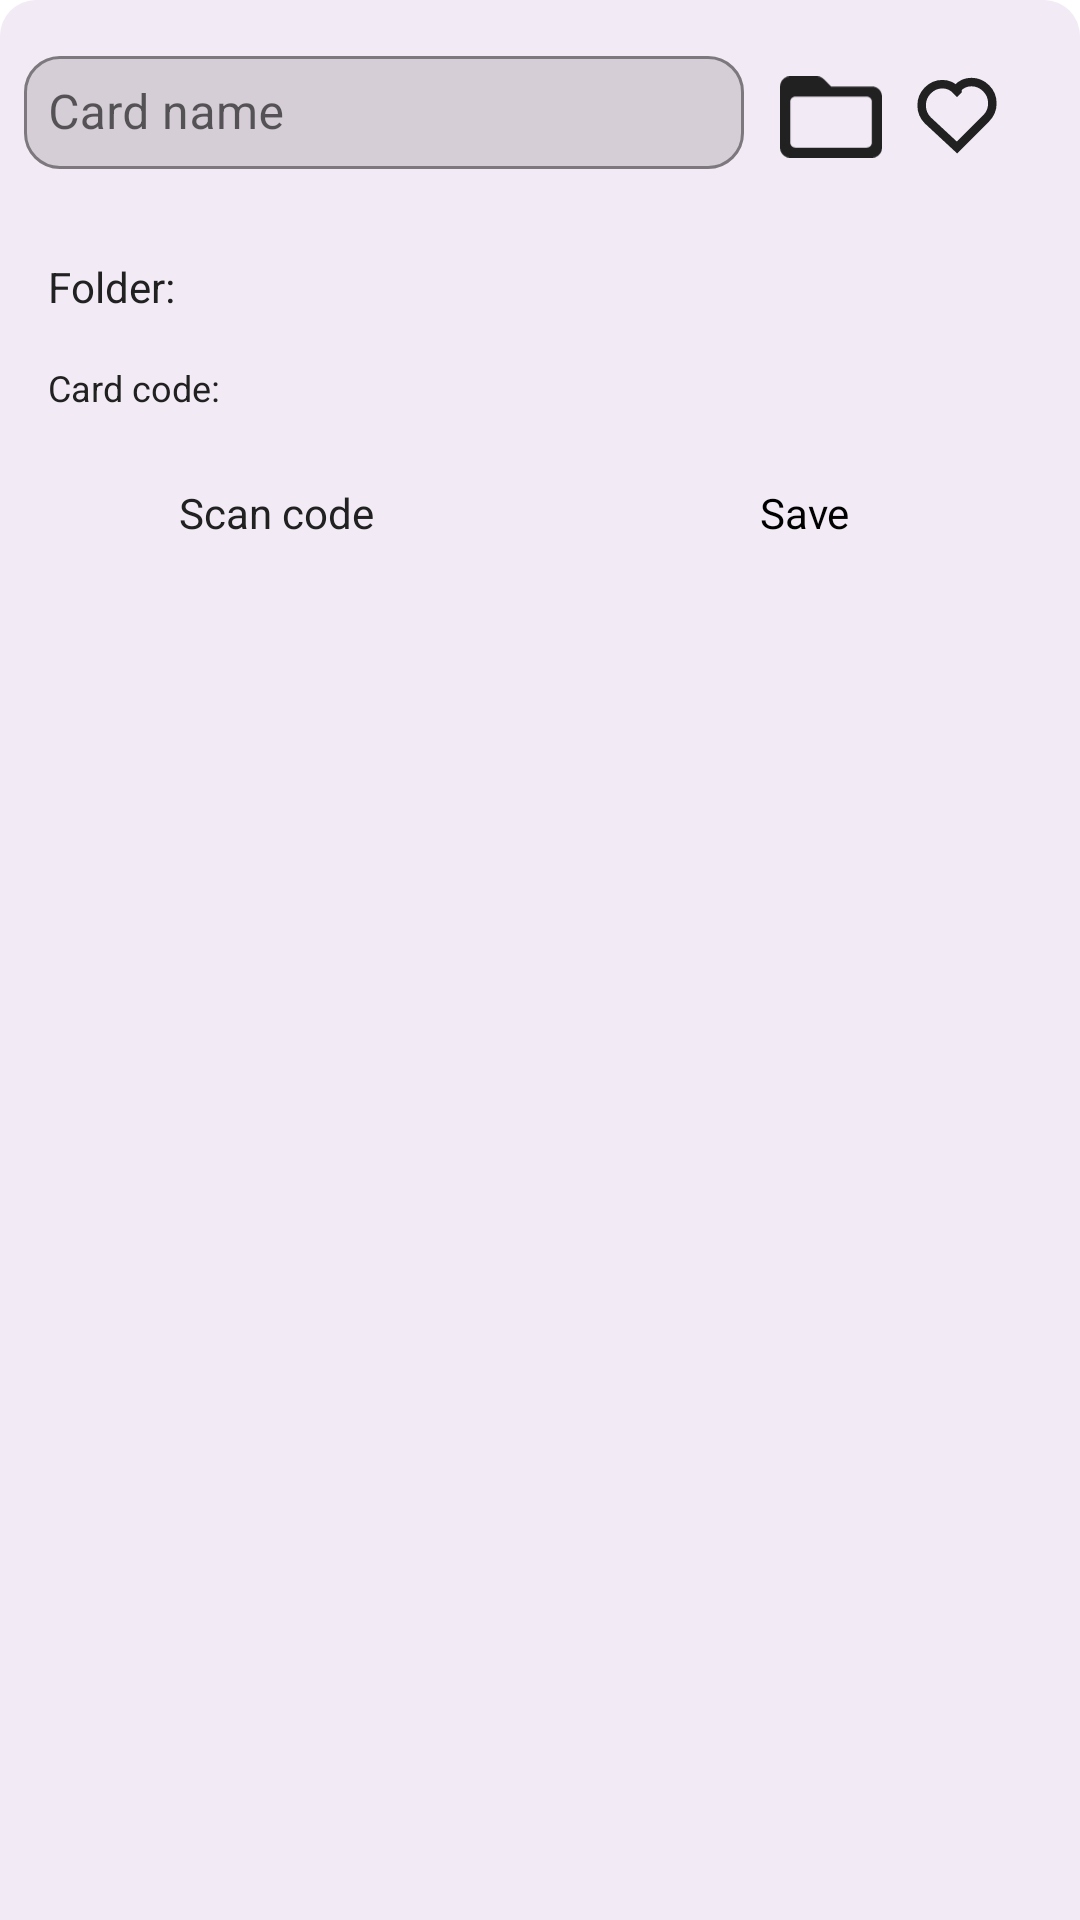

Icon bounding boxes for this 1080px x 1920px phone screenshot, format (x1, y1, x2, y2):
favorite: (917, 77, 997, 154)
folder: (780, 76, 882, 158)
